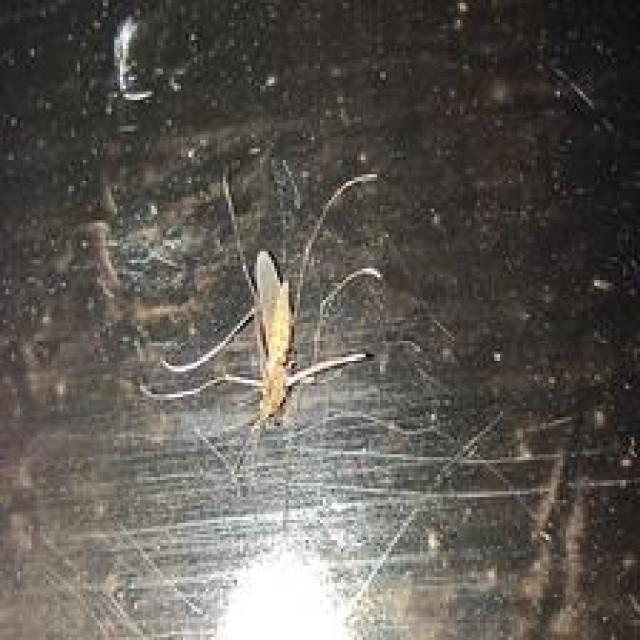Culex: (137, 170, 389, 493)
